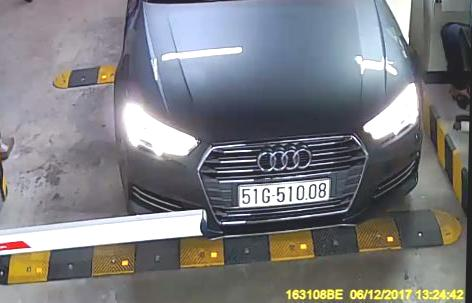License_Plate: (235, 178, 337, 210)
